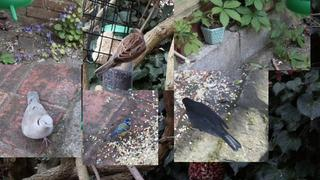blackbird: (182, 97, 242, 152)
blue tit: (109, 117, 132, 138)
collared dove: (21, 91, 55, 148)
sparrow: (94, 27, 147, 78)
